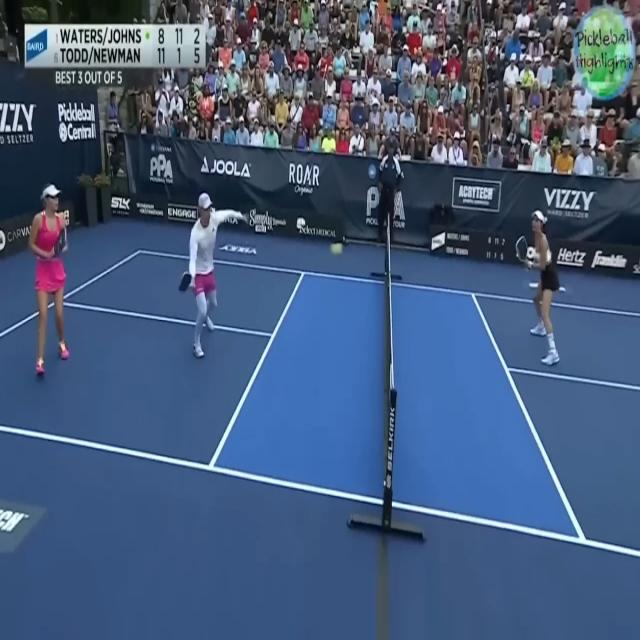Pickleball: (330, 239, 342, 257)
